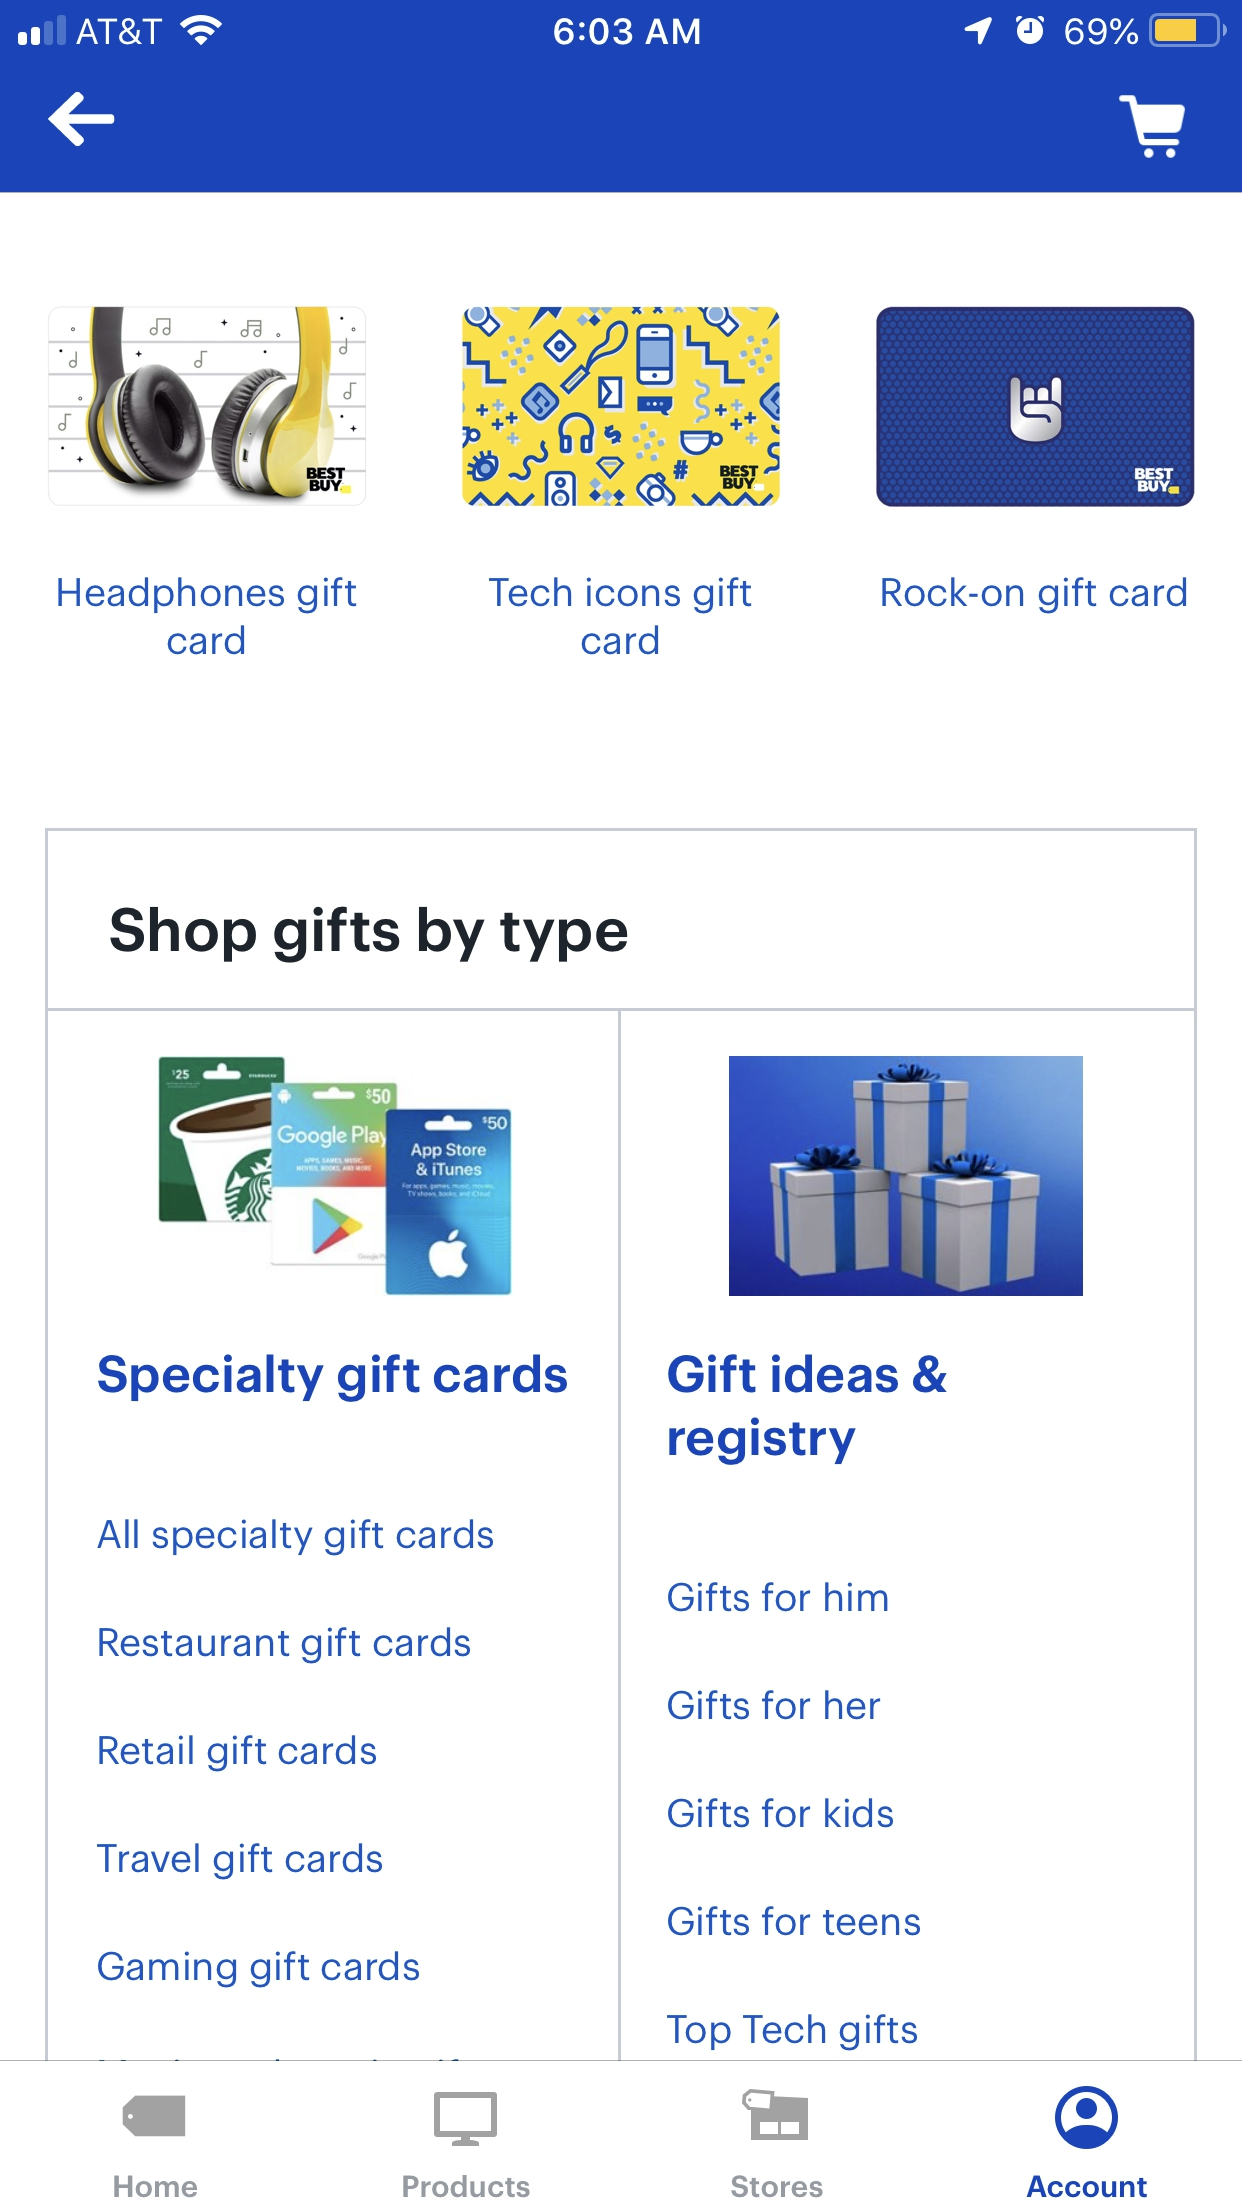Icon: (1118, 96, 1186, 161), (1054, 2085, 1119, 2150), (49, 93, 115, 149), (123, 2094, 187, 2137)
Image: (729, 1055, 1084, 1297), (158, 1055, 513, 1297), (877, 306, 1195, 508), (49, 306, 367, 507), (463, 306, 781, 507), (434, 2093, 497, 2147), (742, 2090, 808, 2141)
Text: (667, 1353, 948, 1466), (111, 905, 628, 964), (58, 576, 358, 657), (99, 1354, 569, 1403), (488, 576, 752, 657), (97, 1518, 494, 1556), (99, 1626, 472, 1664), (99, 1950, 420, 1988), (883, 576, 1187, 616), (97, 1843, 384, 1880), (99, 1735, 378, 1773), (667, 2012, 917, 2050), (667, 1905, 921, 1937), (667, 1582, 889, 1614), (667, 1797, 895, 1827), (667, 1689, 881, 1720), (1027, 2175, 1148, 2199), (403, 2175, 531, 2197), (731, 2175, 823, 2197), (115, 2175, 199, 2197)
UpperTaskBar: (2, 2, 1242, 49)
